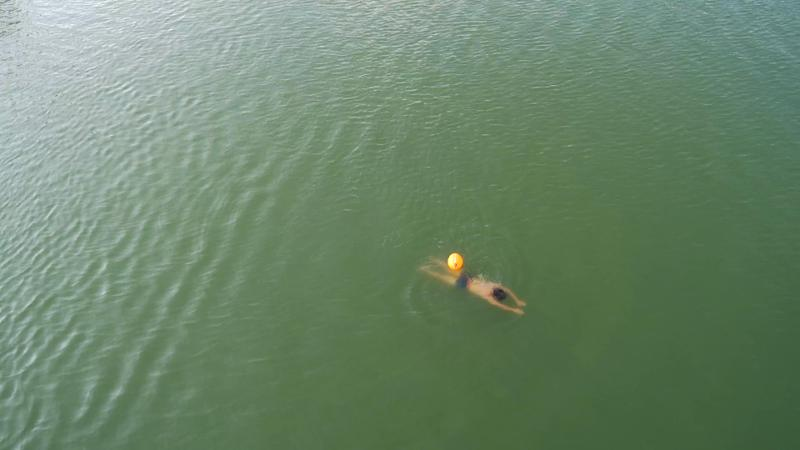swimmers: (421, 255, 527, 314)
